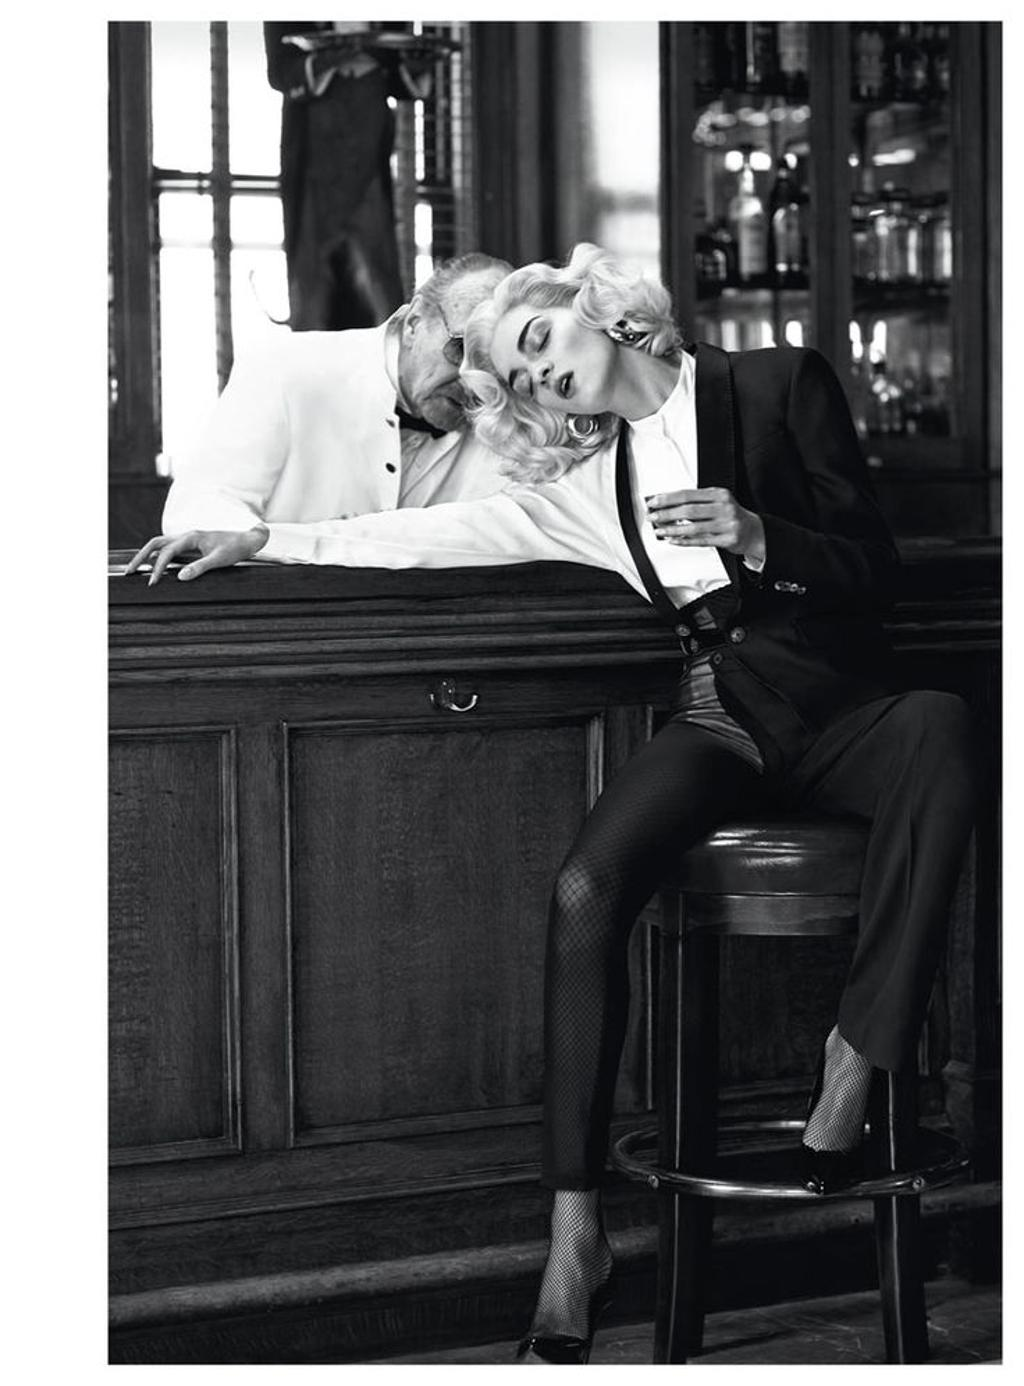face: (493, 298, 615, 414), (412, 287, 507, 422)
